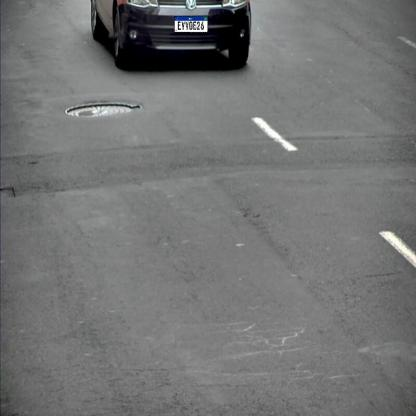PlacaM: (174, 16, 208, 33)
